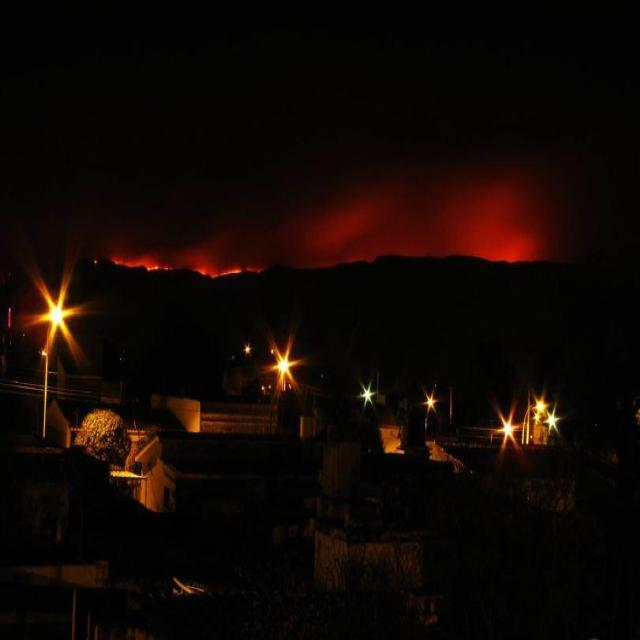Fire: (195, 256, 260, 278), (110, 255, 172, 275)
